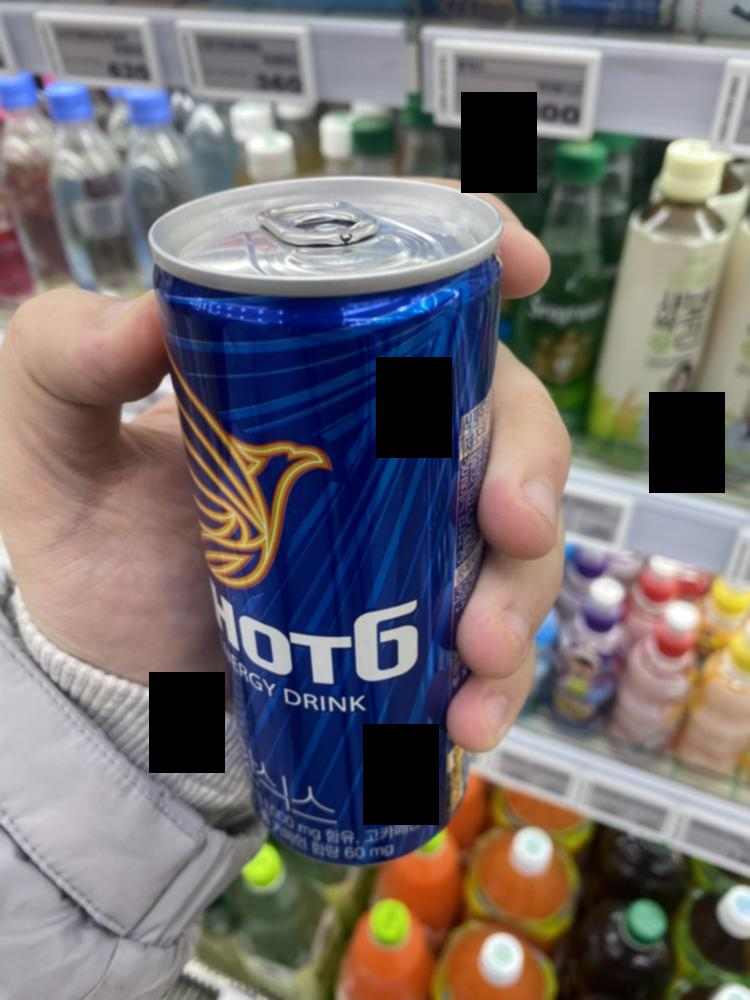hotsix_org: (136, 178, 503, 877)
